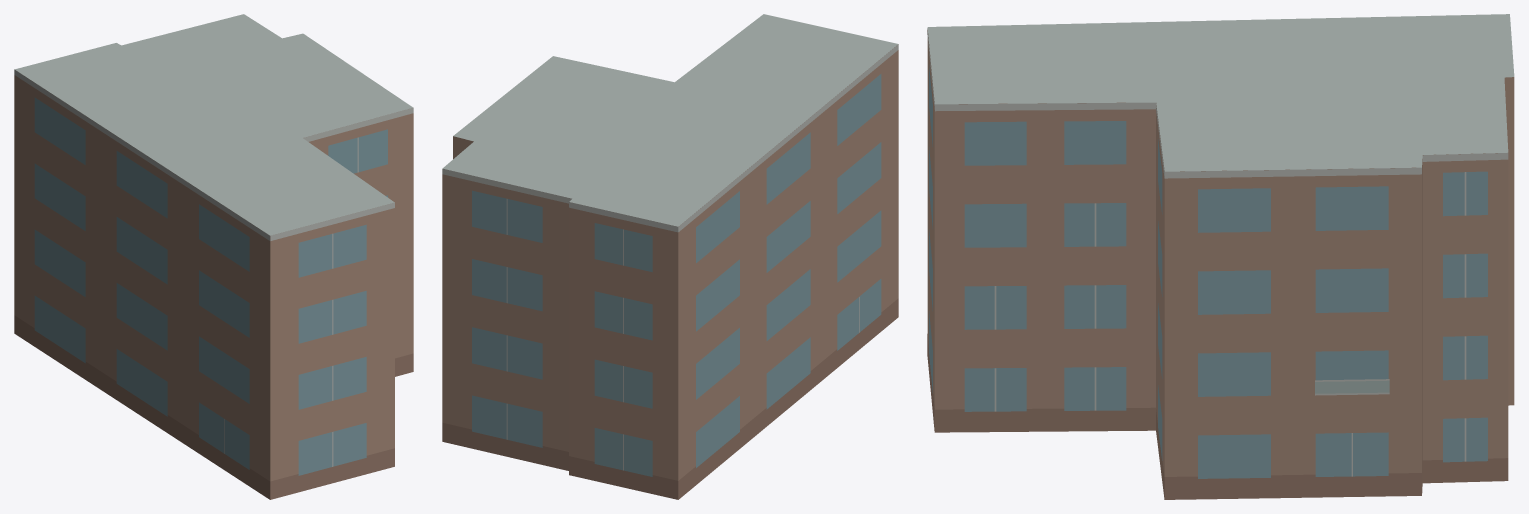
Rendered from survey-upis-32569477.glb.
The picture shows the model from 3 angles, left to right: view 1: azimuth 30°, elevation 25°; view 2: azimuth 150°, elevation 25°; view 3: azimuth 270°, elevation 25°; orthographic projection. The views are drawn at different scales.
Visible parts, largest first — view 1: survey-upis-32569477.tmp; view 2: survey-upis-32569477.tmp; view 3: survey-upis-32569477.tmp.
Boxes of the visible parts, left/top/right/bottom form: survey-upis-32569477.tmp: left=14, top=14, right=413, bottom=499; survey-upis-32569477.tmp: left=442, top=14, right=898, bottom=499; survey-upis-32569477.tmp: left=927, top=14, right=1514, bottom=499.
Bounding box in the file's own units: 12.07 × 11.7 × 18.97.
